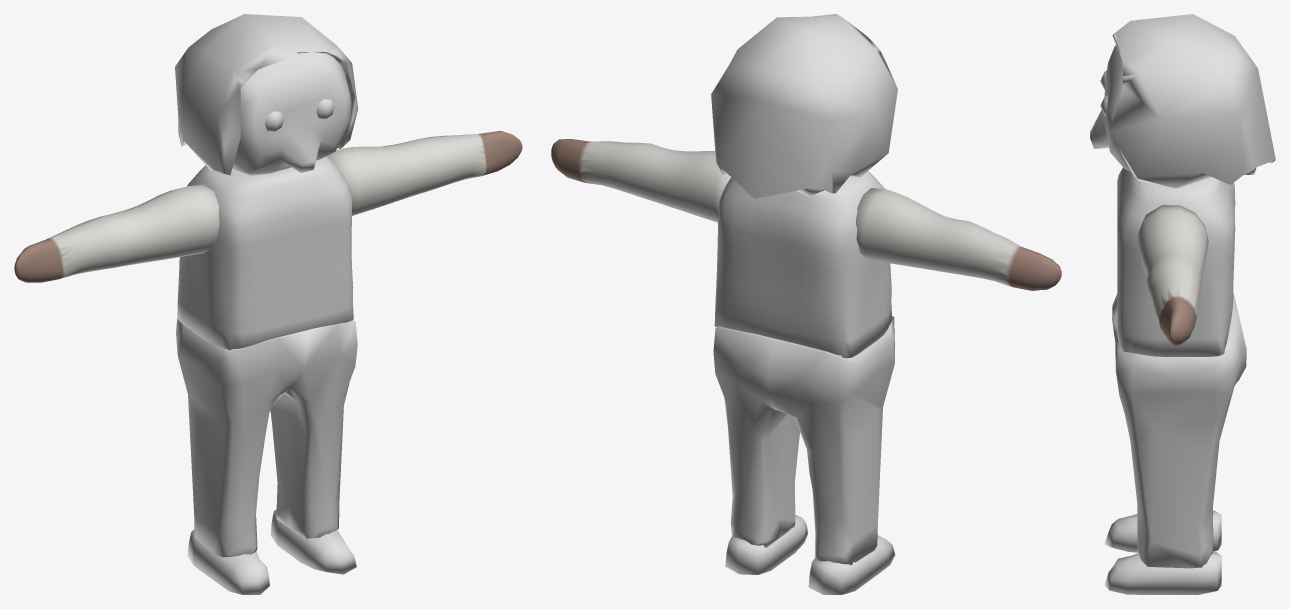
The model's file is DmcHero1.fbx.
3 views of the same model, side by side, from view 1: azimuth 30°, elevation 25°; view 2: azimuth 150°, elevation 25°; view 3: azimuth 270°, elevation 25° (orthographic).
Visible parts, largest first — view 1: Legs, Torso, Helmet, ArmR, Head, ArmL, FootR, FootL; view 2: Legs, Helmet, Torso, ArmR, ArmL, FootR, FootL; view 3: Helmet, Legs, Torso, ArmL, FootL, Head, FootR.
Part boxes in pixels (x1=…): Legs: x1=176, y1=319, x2=357, y2=557; Torso: x1=177, y1=156, x2=353, y2=350; Helmet: x1=175, y1=14, x2=358, y2=175; ArmR: x1=14, y1=184, x2=219, y2=282; Head: x1=232, y1=53, x2=351, y2=175; ArmL: x1=327, y1=130, x2=522, y2=215; FootR: x1=187, y1=529, x2=269, y2=594; FootL: x1=270, y1=509, x2=356, y2=574; Legs: x1=713, y1=316, x2=894, y2=565; Helmet: x1=711, y1=14, x2=897, y2=198; Torso: x1=714, y1=171, x2=892, y2=358; ArmR: x1=856, y1=188, x2=1061, y2=290; ArmL: x1=551, y1=139, x2=731, y2=222; FootR: x1=808, y1=535, x2=895, y2=594; FootL: x1=725, y1=515, x2=807, y2=574; Helmet: x1=1110, y1=14, x2=1275, y2=188; Legs: x1=1112, y1=293, x2=1246, y2=568; Torso: x1=1117, y1=167, x2=1235, y2=356; ArmL: x1=1137, y1=205, x2=1208, y2=346; FootL: x1=1104, y1=551, x2=1221, y2=594; Head: x1=1090, y1=45, x2=1130, y2=171; FootR: x1=1104, y1=510, x2=1221, y2=552.
Bounding box in the file's own units: 4.12 × 4.21 × 1.3.
